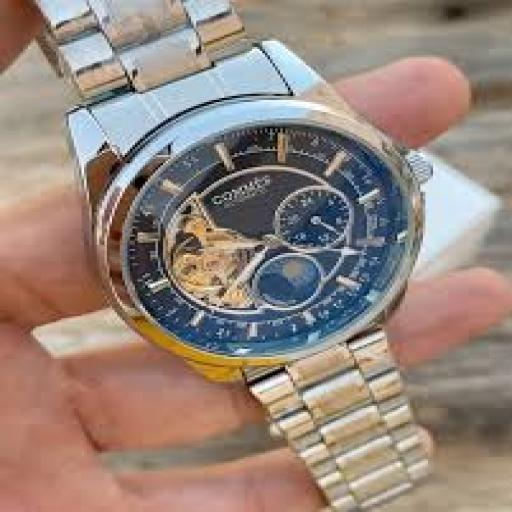KolSaati: (19, 3, 484, 512)
